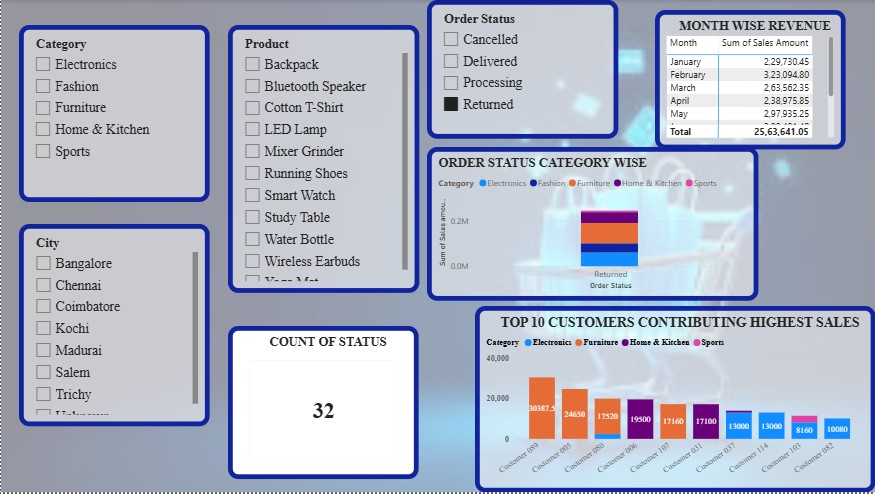

What the dashboard file says about the page in this screenshot:
{"tool":"powerbi","page":{"name":"Page 5","canvas":[1280,720],"ordinal":4},"visuals":[{"type":"slicer","fields":{"Values":["Sales Data.Category"]},"box":[26.6,37.3,278.7,259.2],"z":0},{"type":"slicer","fields":{"Values":["Sales Data.Order Status"]},"box":[623.4,0,279.5,203.4],"z":1000},{"type":"slicer","fields":{"Values":["Sales Data.City"]},"box":[26.6,328.4,278.7,296.5],"z":2000},{"type":"slicer","fields":{"Values":["Sales Data.Product"]},"box":[332,37.3,280.5,392.3],"z":3000},{"type":"cardVisual","title":"COUNT OF STATUS ","fields":{"Data":["CountNonNull(Sales Data.Product)"]},"box":[332,477.6,278.7,223.7],"z":4000},{"type":"columnChart","title":"TOP 10 CUSTOMERS CONTRIBUTING HIGHEST SALES","fields":{"Category":["Sales Data.Customer Name"],"Y":["Sum(Sales Data.Sales amount check)"],"Series":["Sales Data.Category"]},"box":[694.1,447.4,585.9,273.4],"z":5000},{"type":"columnChart","title":"ORDER STATUS CATEGORY WISE","fields":{"Category":["Sales Data.Order Status"],"Y":["Sum(Sales Data.Sales amount check)"],"Series":["Sales Data.Category"]},"box":[623.1,214.8,484.7,225.5],"z":6000},{"type":"pivotTable","title":"MONTH WISE REVENUE","fields":{"Rows":["Sales Data.Order Date.Variation.Date Hierarchy.Month"],"Values":["Sum(Sales Data.Sales Amount)"]},"box":[956.9,14.2,278.7,204.2],"z":7000}]}

Visuals, with their boxes in screenshot pixels (x1, y1, x2, y2), scaled from the page's 1280x720 canvas onto the 875x494 screenshot:
slicer - Sales Data.Category: box(18, 26, 209, 203)
slicer - Sales Data.Order Status: box(426, 0, 617, 140)
slicer - Sales Data.City: box(18, 225, 209, 429)
slicer - Sales Data.Product: box(227, 26, 419, 295)
"COUNT OF STATUS " cardVisual: box(227, 328, 417, 481)
"TOP 10 CUSTOMERS CONTRIBUTING HIGHEST SALES" columnChart: box(474, 307, 874, 493)
"ORDER STATUS CATEGORY WISE" columnChart: box(426, 147, 757, 302)
"MONTH WISE REVENUE" pivotTable: box(654, 10, 845, 150)
